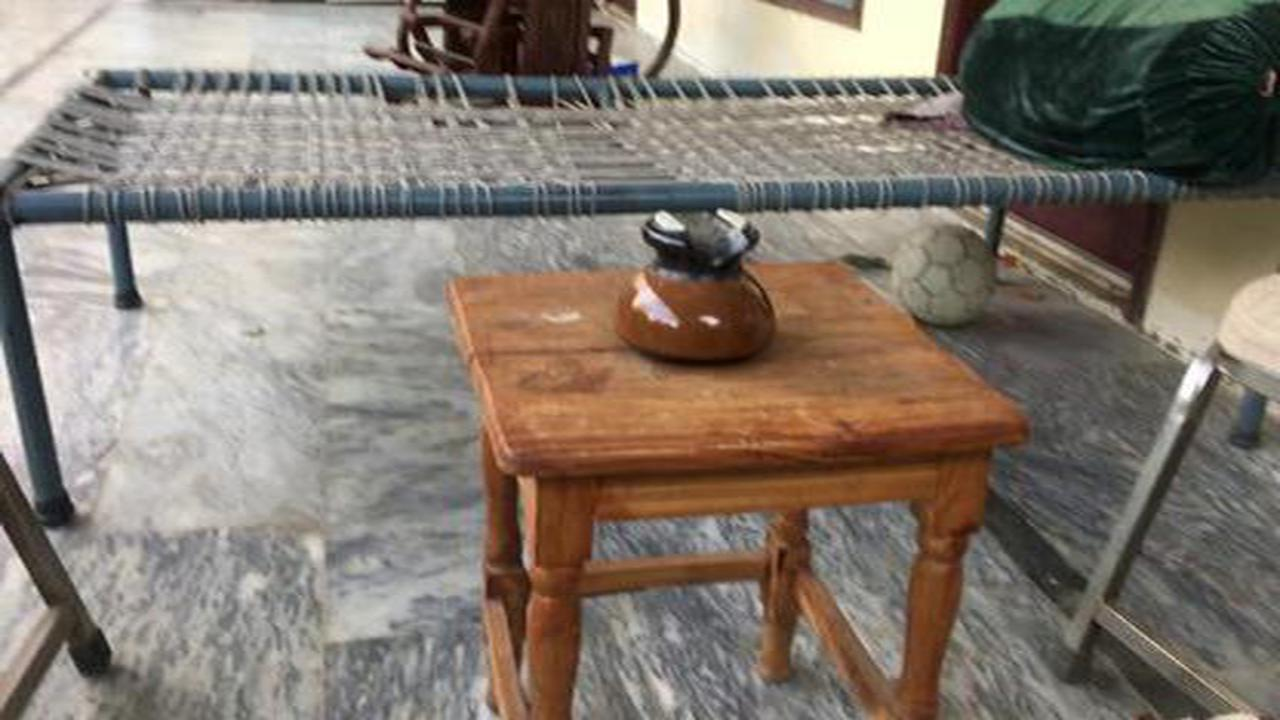insulator_pin: (604, 194, 801, 376)
